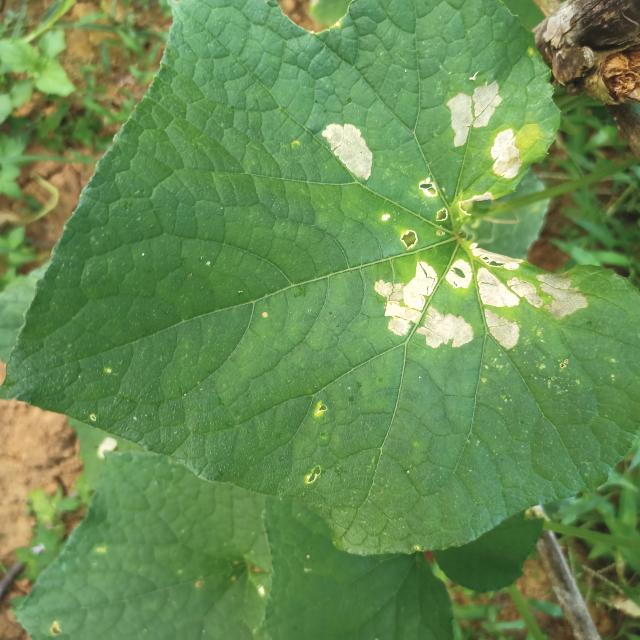disease_cucumber: (374, 243, 590, 351), (448, 78, 503, 150), (318, 120, 378, 184), (416, 176, 452, 225), (490, 128, 521, 180), (398, 228, 422, 250)
